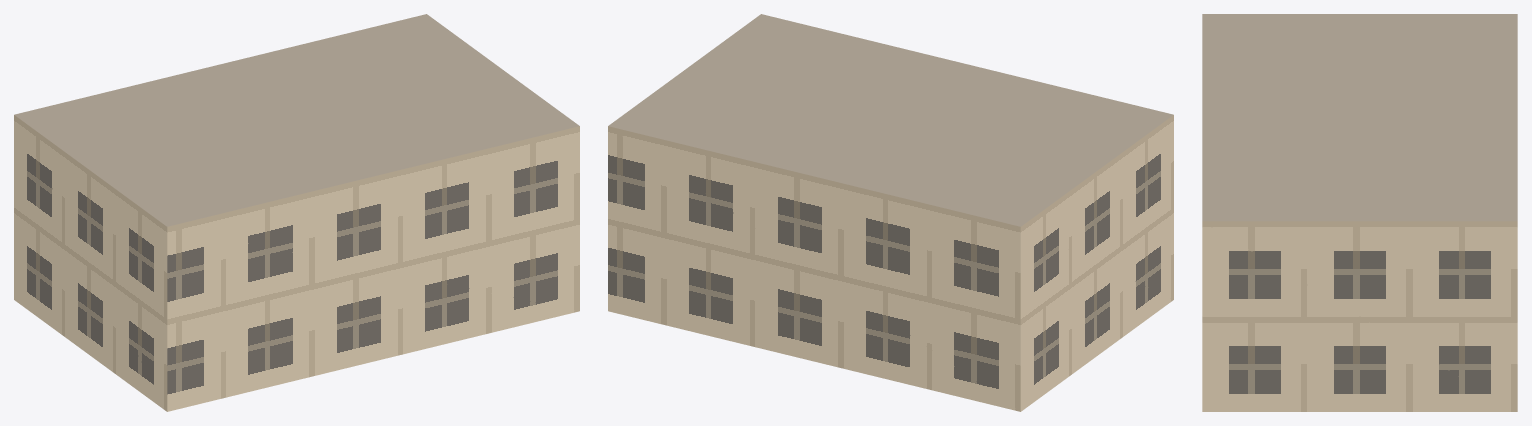
The model's file is small-masonry-building.glb.
The picture shows the model from 3 angles, left to right: view 1: azimuth 30°, elevation 25°; view 2: azimuth 150°, elevation 25°; view 3: azimuth 270°, elevation 25°; orthographic projection. The views are drawn at different scales.
Visible parts, largest first — view 1: Small masonry building; view 2: Small masonry building; view 3: Small masonry building.
Part boxes in pixels (x1,y1,x2,y2): Small masonry building: (14, 14, 579, 411); Small masonry building: (608, 14, 1173, 411); Small masonry building: (1202, 14, 1517, 411).
Bounding box in the file's own units: 14 × 6 × 9.
Materials: 2 (1 with a texture image).
